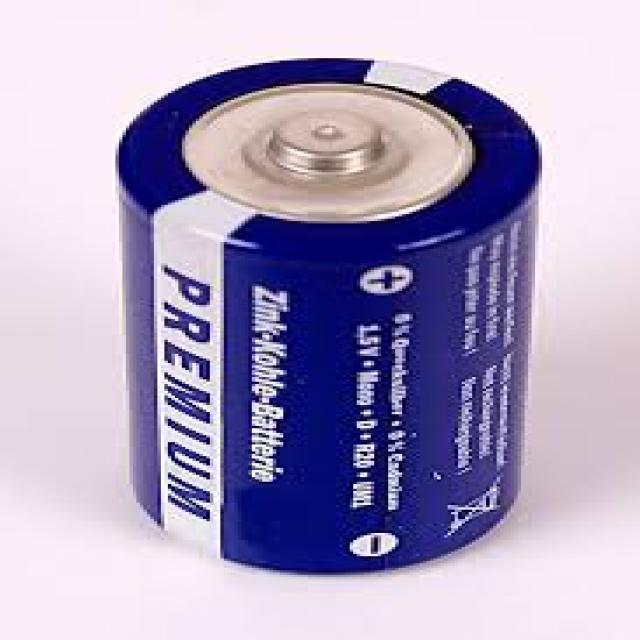battery: (116, 54, 546, 578)
